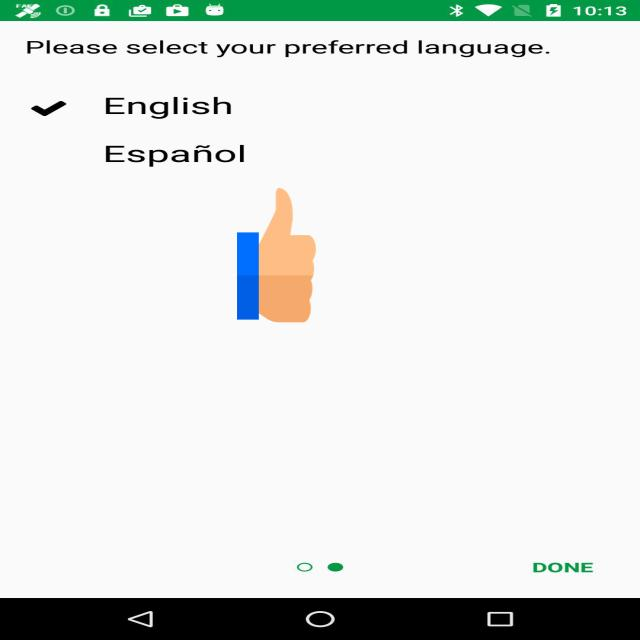privacy zuckering: (237, 184, 316, 326)
